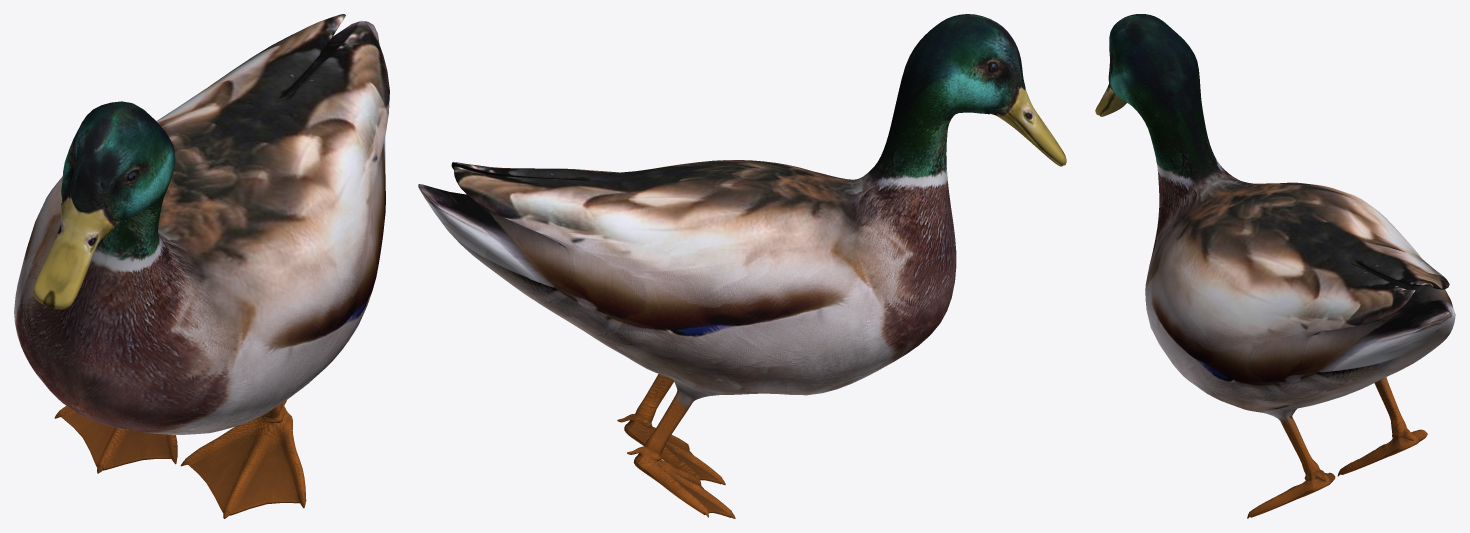
Rendered from duck.glb.
3 views of the same model, side by side, from view 1: azimuth 30°, elevation 25°; view 2: azimuth 150°, elevation 25°; view 3: azimuth 270°, elevation 25° (orthographic). The views are drawn at different scales.
Parts seen in each view (by area): view 1: duck; view 2: duck; view 3: duck.
Part boxes in pixels (x1,y1,x2,y2): duck: (14, 14, 389, 518); duck: (418, 14, 1066, 518); duck: (1095, 14, 1455, 518).
Bounding box in the file's own units: 54.71 × 50.47 × 40.04.
Materials: 1 (1 with a texture image).
